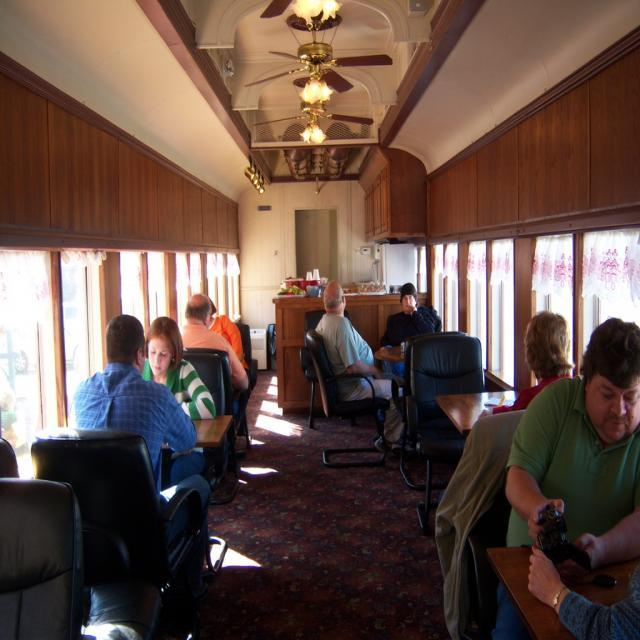fan_off: (249, 43, 394, 93), (254, 94, 380, 134), (251, 0, 289, 24)
